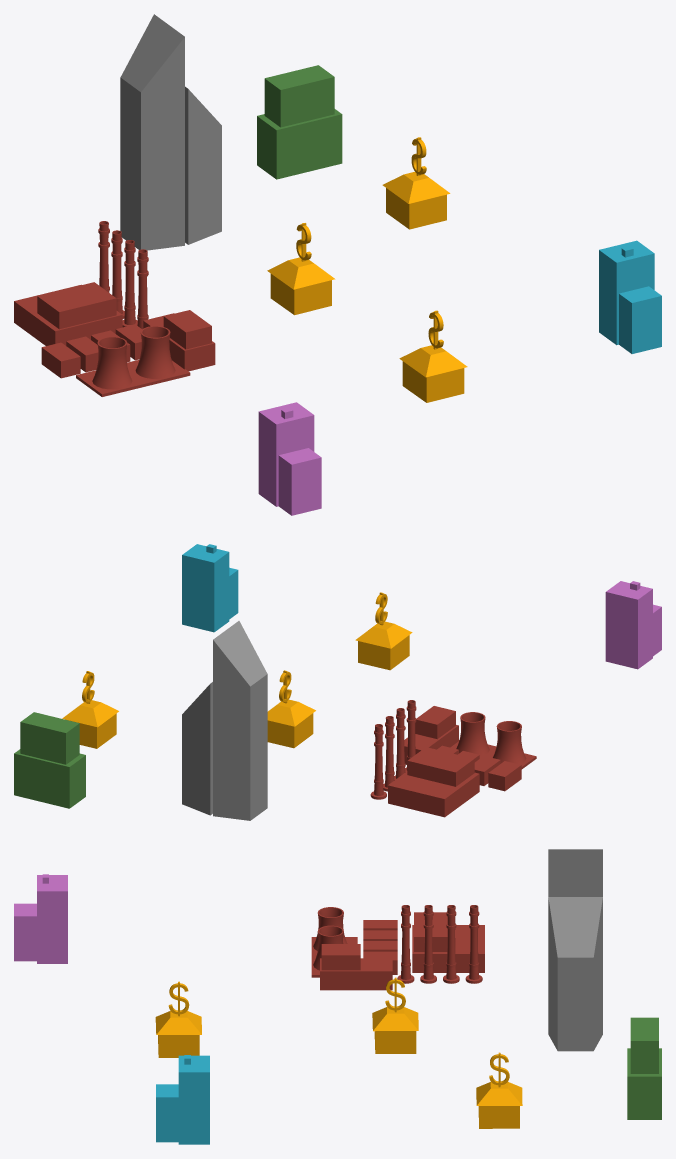
Rendered from buildings_01.FBX.
3 views of the same model, one above another, from view 1: azimuth 30°, elevation 25°; view 2: azimuth 150°, elevation 25°; view 3: azimuth 270°, elevation 25° (orthographic). The views are drawn at different scales.
Parts seen in each view (by area): view 1: Box018, Box013, Box004, Box017, Box001, Box016, Box015, Box014; view 2: Box018, Box013, Box004, Box017, Box001, Box016, Box015, Box014; view 3: Box013, Box018, Box001, Box017, Box004, Box015, Box014, Box016.
Part boxes in pixels (x1,y1,x2,y2): Box018: (120,14,221,250); Box013: (14,221,215,396); Box004: (257,65,342,179); Box017: (258,402,321,515); Box001: (599,240,661,353); Box016: (399,310,467,402); Box015: (267,223,335,315); Box014: (382,137,450,229); Box018: (182,621,267,820); Box013: (370,700,536,817); Box004: (14,712,85,808); Box017: (605,581,661,669); Box001: (182,544,238,632); Box016: (355,592,412,670); Box015: (267,670,315,748); Box014: (62,671,118,748); Box013: (311,905,484,990); Box018: (548,849,602,1051); Box001: (156,1055,209,1144); Box017: (14,874,67,963); Box004: (627,1017,661,1119); Box015: (372,977,418,1053); Box014: (476,1052,522,1128); Box016: (155,981,201,1057).
Bounding box in the file's own units: 567 × 232 × 739.
